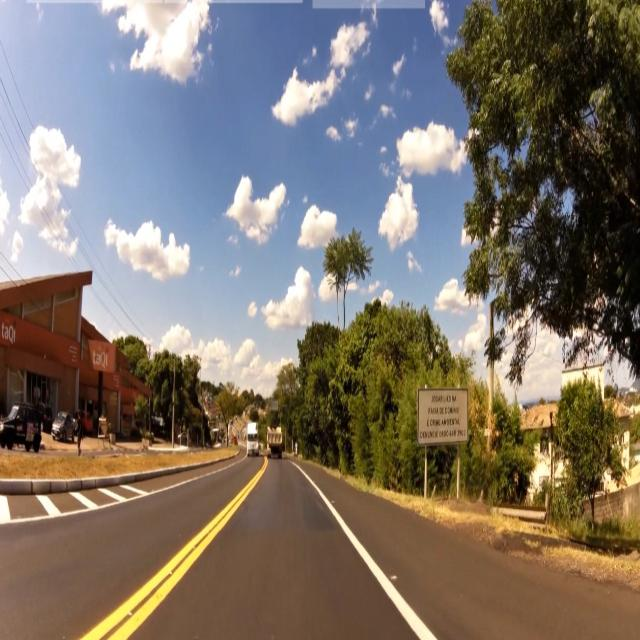E-5: (419, 390, 467, 444)
